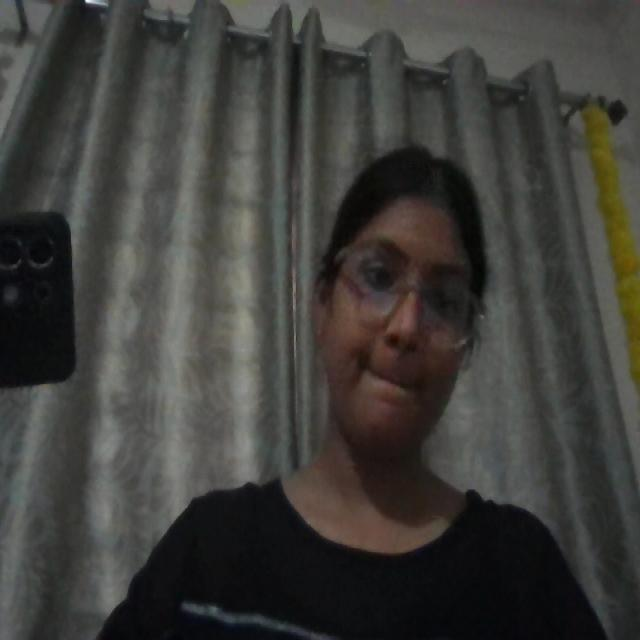phone: (0, 193, 88, 407)
